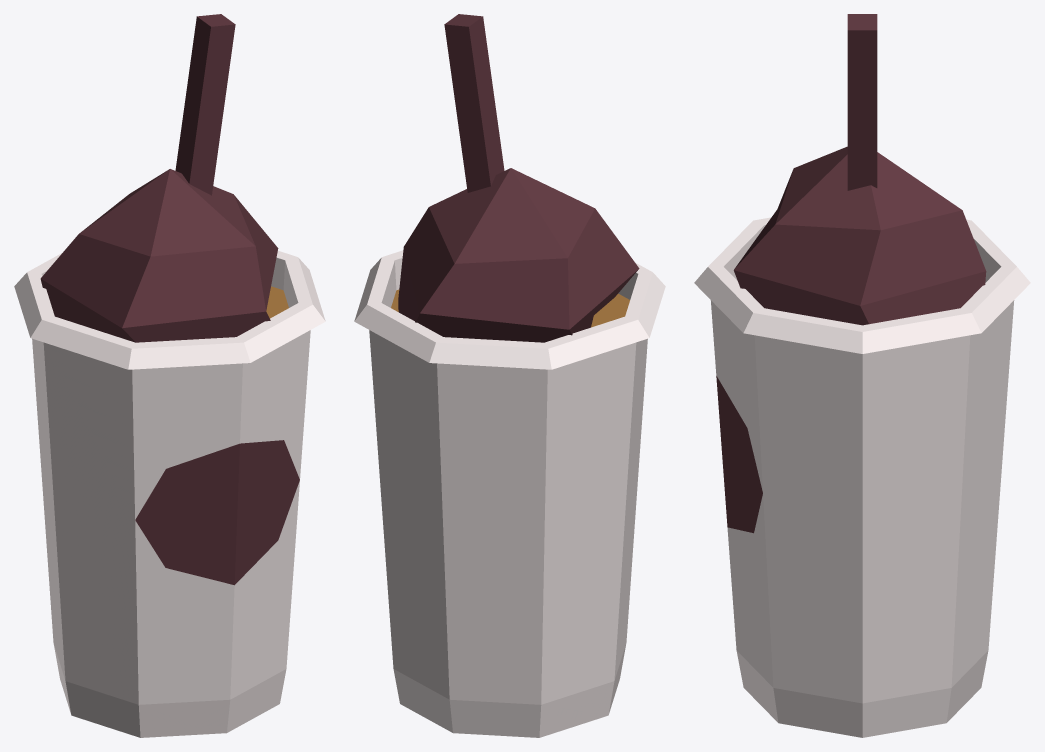
File: cup-plastic-frappuccino.fbx
3 views of the same model, side by side, from view 1: azimuth 30°, elevation 25°; view 2: azimuth 150°, elevation 25°; view 3: azimuth 270°, elevation 25° (orthographic). The views are drawn at different scales.
Visible parts, largest first — view 1: cup-plastic-frappuccino; view 2: cup-plastic-frappuccino; view 3: cup-plastic-frappuccino.
Boxes of the visible parts, <box> form: cup-plastic-frappuccino: <box>14,14,325,737</box>; cup-plastic-frappuccino: <box>354,14,665,737</box>; cup-plastic-frappuccino: <box>694,14,1030,737</box>.
Size of the model in its own units: 0.1094 by 0.2475 by 0.1094.
